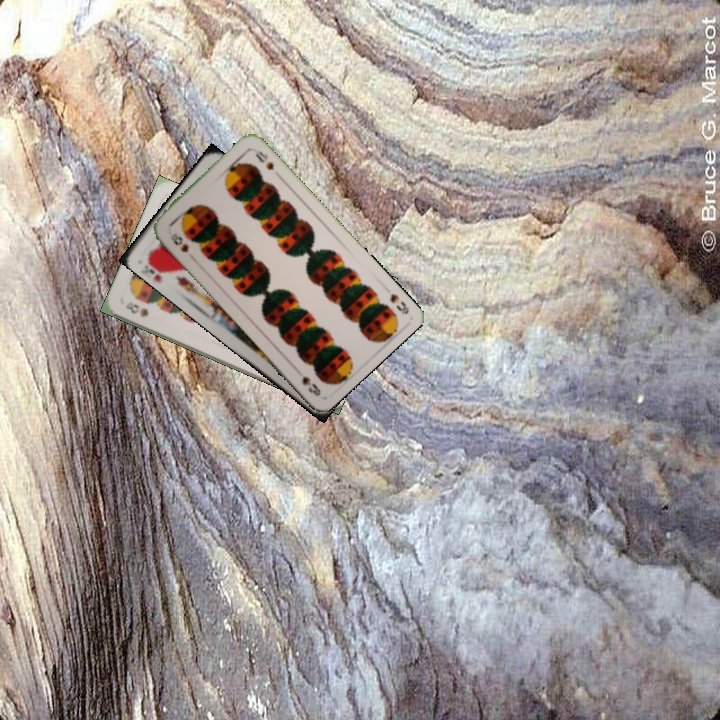HK: (139, 253, 172, 277)
S8: (386, 289, 412, 317), (166, 229, 191, 255), (122, 298, 151, 320)
